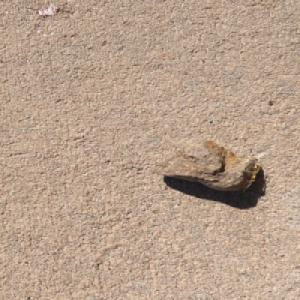Rock: (148, 136, 260, 191)
